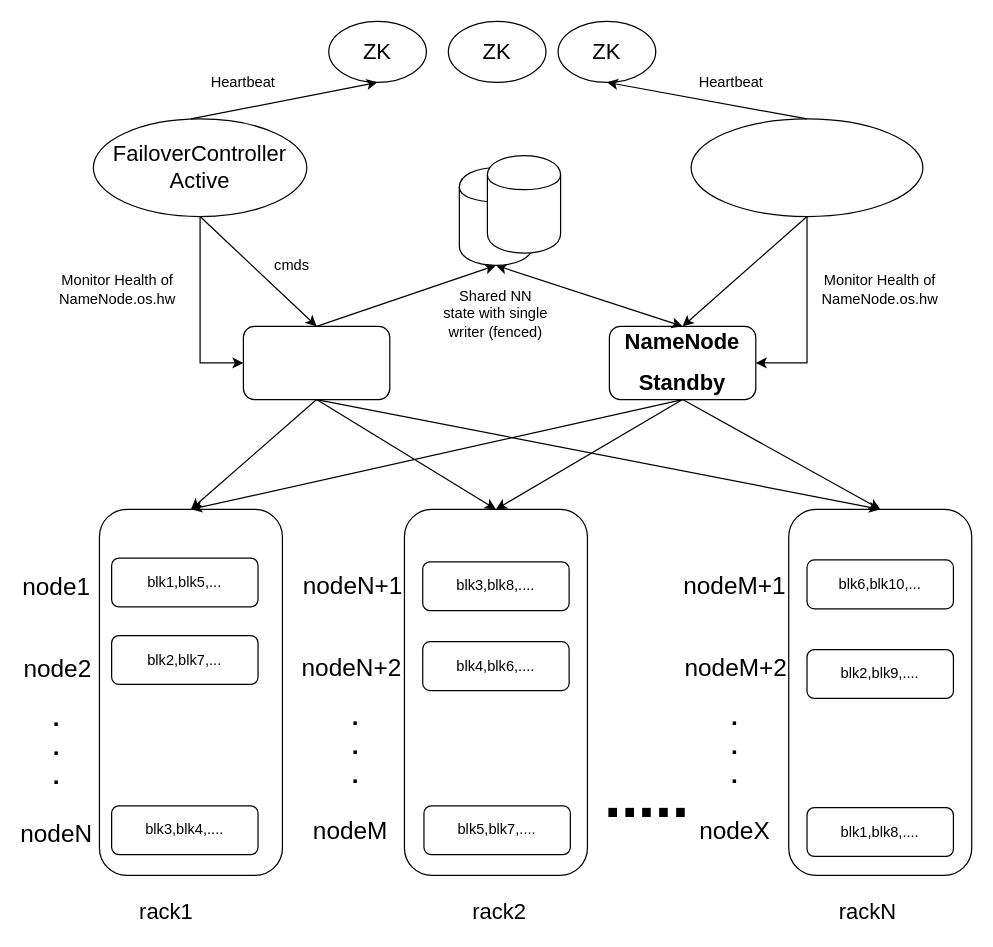
This 993x947 diagram has some shape labels left out. Each missing label, with the centre of its shape:
FailoverController Standby: (x=806, y=167)
NameNode Active: (x=316, y=362)
